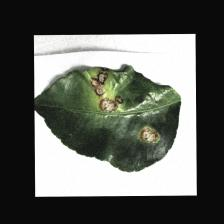canker: (84, 63, 170, 144)
